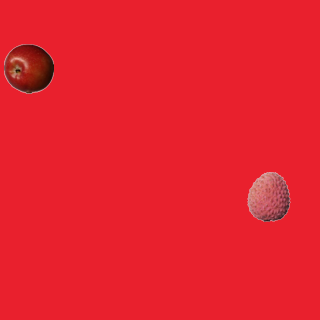Apple Braeburn: (3, 43, 53, 93)
Lychee: (243, 171, 293, 221)
